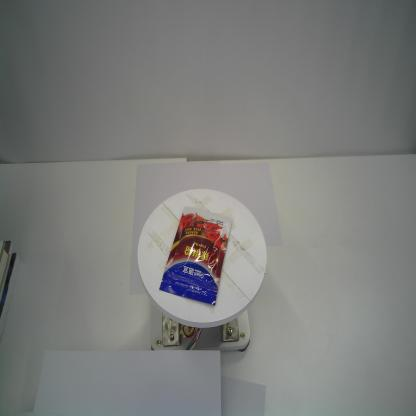Seasoner: (159, 206, 233, 308)
